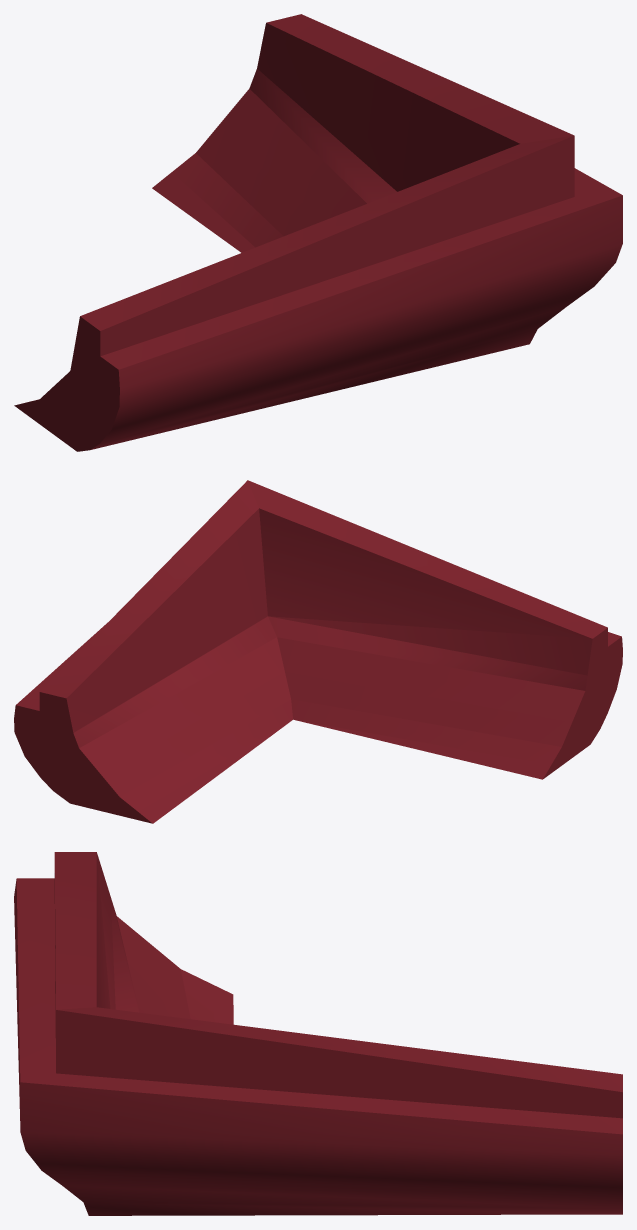
File: BRoofPanelCornerTrim_A.fbx
3 renders of one model, top to bottom at view 1: azimuth 30°, elevation 25°; view 2: azimuth 150°, elevation 25°; view 3: azimuth 270°, elevation 25°, orthographic. The views are drawn at different scales.
Parts seen in each view (by area): view 1: BRoofPannelCornerTrim_A; view 2: BRoofPannelCornerTrim_A; view 3: BRoofPannelCornerTrim_A.
Part boxes in pixels (x1,y1,x2,y2): BRoofPannelCornerTrim_A: (14,14,622,451); BRoofPannelCornerTrim_A: (14,480,622,823); BRoofPannelCornerTrim_A: (14,852,622,1215).
Size of the model in its own units: 463 by 188 by 463.
